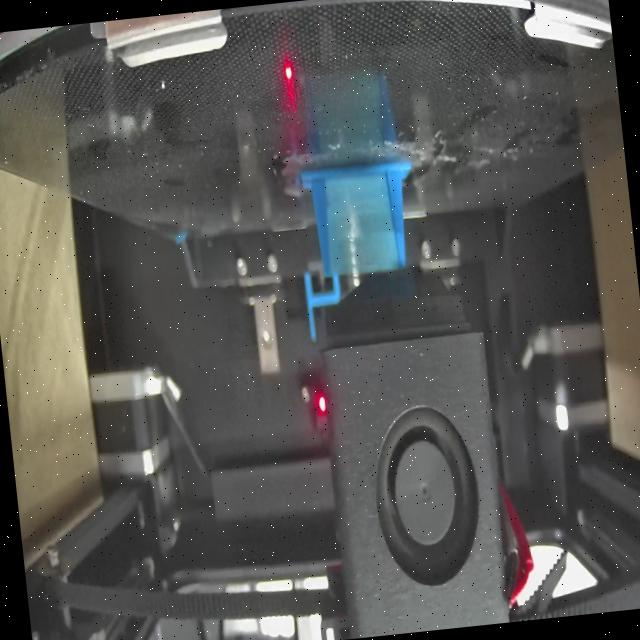stringing: (324, 171, 396, 278)
